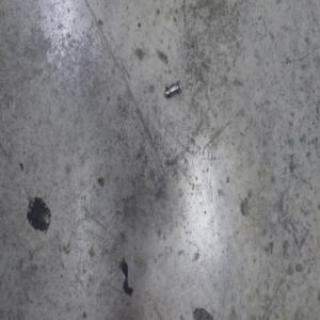Bolttrack_idkeyframe: (164, 78, 181, 98)
